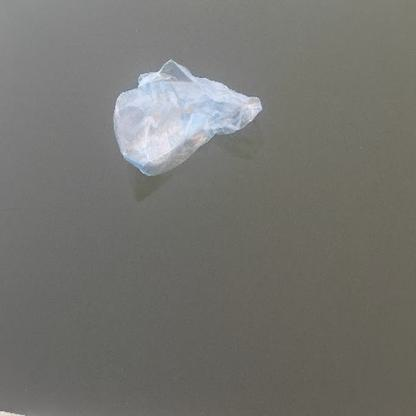plastic bag: (110, 60, 263, 176)
